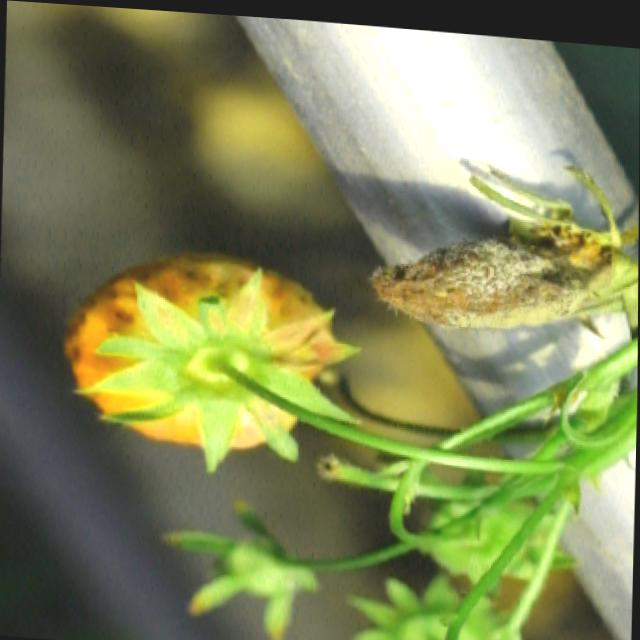Gray Mold: (366, 168, 639, 322)
